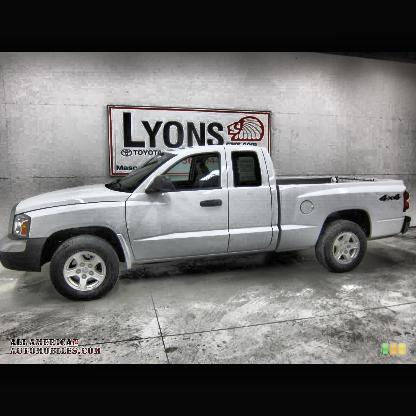Dodge Dakota Club Cab 2007: (3, 145, 414, 305)
